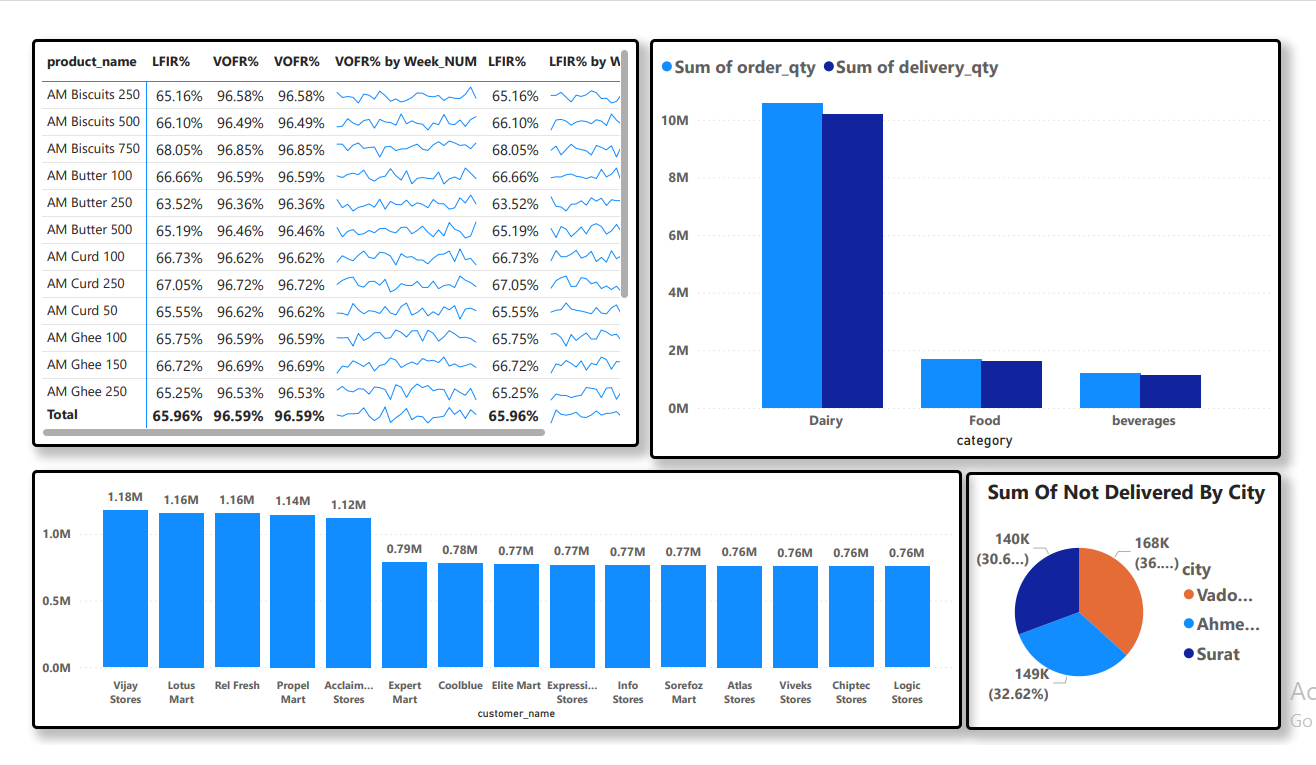

The page's visual inventory and layout, read from the dashboard file:
{"tool":"powerbi","page":{"name":"Dashboard - 2","canvas":[1280,720],"ordinal":1},"visuals":[{"type":"pivotTable","fields":{"Rows":["dim_products.product_name"],"Values":["fact_order_lines.LFIR%","fact_order_lines.VOFR%","fact_order_lines.VOFR%","SparklineData(fact_order_lines.VOFR%_[fact_order_lines.Week_NUM])","fact_order_lines.LFIR%","SparklineData(fact_order_lines.LFIR%_[fact_order_lines.Week_NUM])"]},"box":[11,13.7,606.8,408.2],"z":0},{"type":"clusteredColumnChart","fields":{"Y":["Sum(fact_order_lines.order_qty)","Sum(fact_order_lines.delivery_qty)"],"Category":["dim_products.category"]},"box":[628.8,13.7,631.5,420.5],"z":1000},{"type":"pieChart","title":"Sum Of Not Delivered By City","fields":{"Category":["dim_customers.city"],"Series":["dim_customers.city"],"Y":["Sum(fact_order_lines.Not_Delivered)"]},"box":[945.2,446.6,315.1,258.9],"z":2000},{"type":"clusteredColumnChart","fields":{"Category":["dim_customers.customer_name"],"Y":["Sum(fact_order_lines.order_qty)"]},"box":[11,445.2,930.1,258.9],"z":2001}]}

Visuals, with their boxes in screenshot pixels (x1, y1, x2, y2):
pivotTable - dim_products.product_name x fact_order_lines.LFIR%: 52/44/645/443
clusteredColumnChart - Sum(fact_order_lines.order_qty) x Sum(fact_order_lines.delivery_qty): 656/44/1274/455
"Sum Of Not Delivered By City" pieChart: 965/468/1274/721
clusteredColumnChart - dim_customers.customer_name x Sum(fact_order_lines.order_qty): 52/466/961/719
